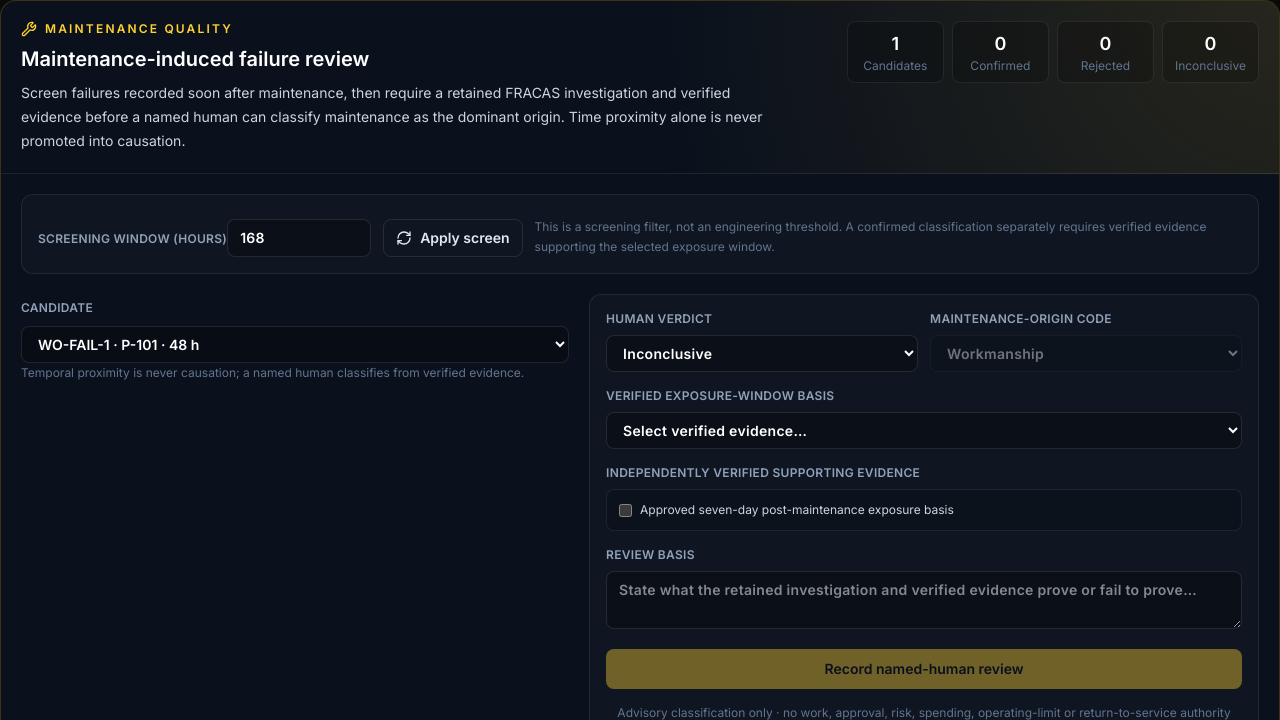
Test: MaintenanceInducedFailureReview › requires verified support before enabling a confirmed classification
Check: the heading "Maintenance-induced failure review" is shown, box x1=21 y1=47 x2=369 y2=71
Step 1. Select "Confirmed" in the dropdown labelled "Human verdict" → (762, 354), box x1=606 y1=335 x2=918 y2=372
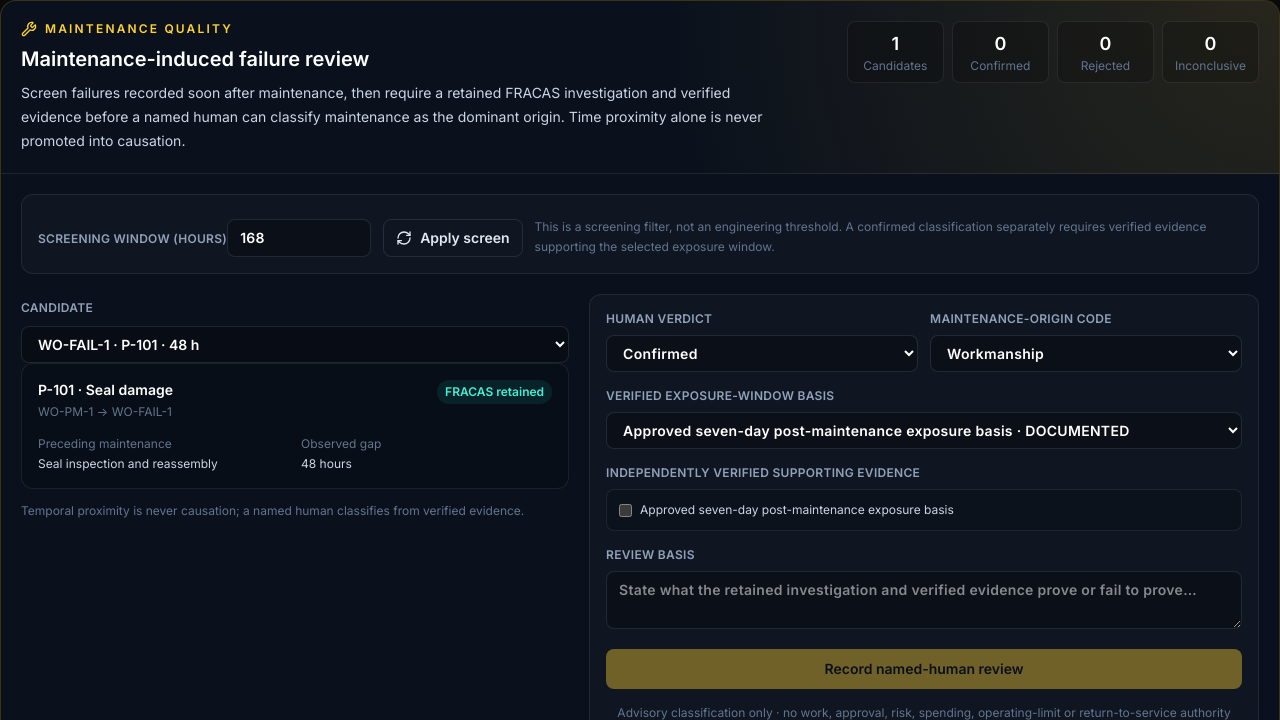
Step 2. Replace the text in the text box labelled "Review basis" with "Teardown evidence shows incorrect seal reassembly after the intervention." → (924, 600), box x1=606 y1=571 x2=1242 y2=629
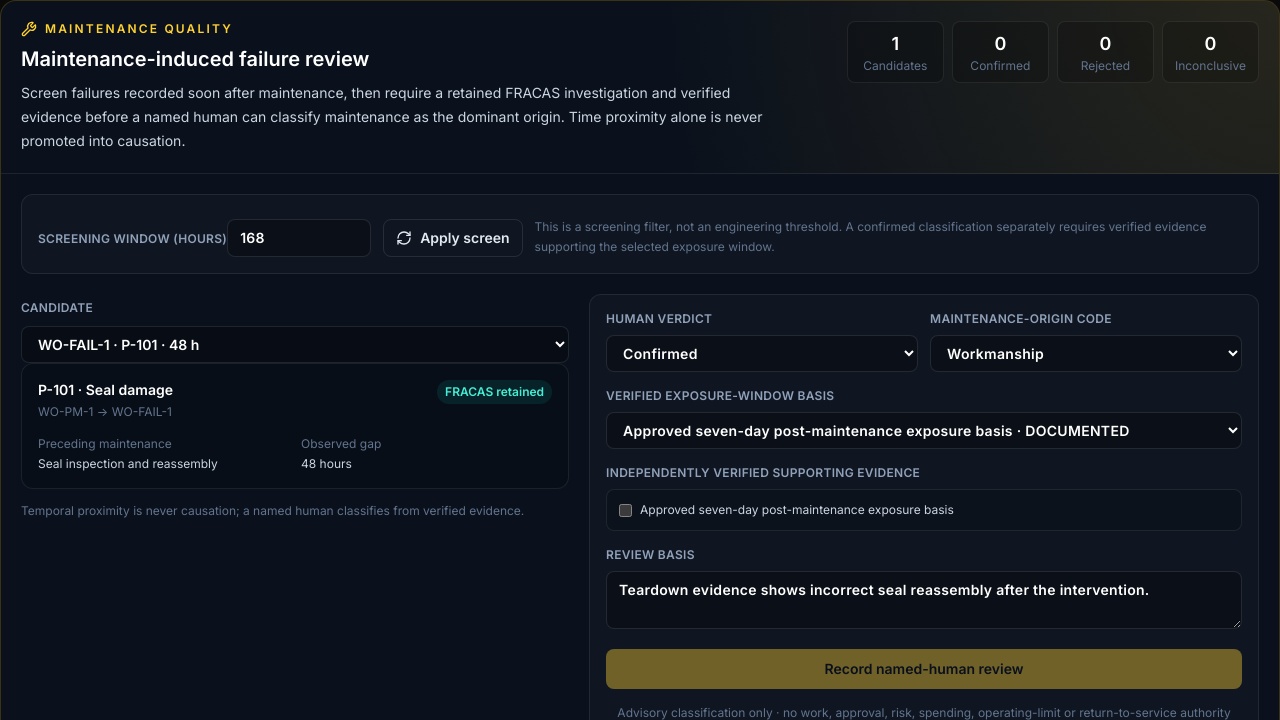
Check: the button "Record named-human review" is disabled, box x1=606 y1=649 x2=1242 y2=689
Step 3. Click the checkbox labelled "Approved seven-day post-maintenance exposure basis" → (626, 510), box x1=619 y1=504 x2=632 y2=517
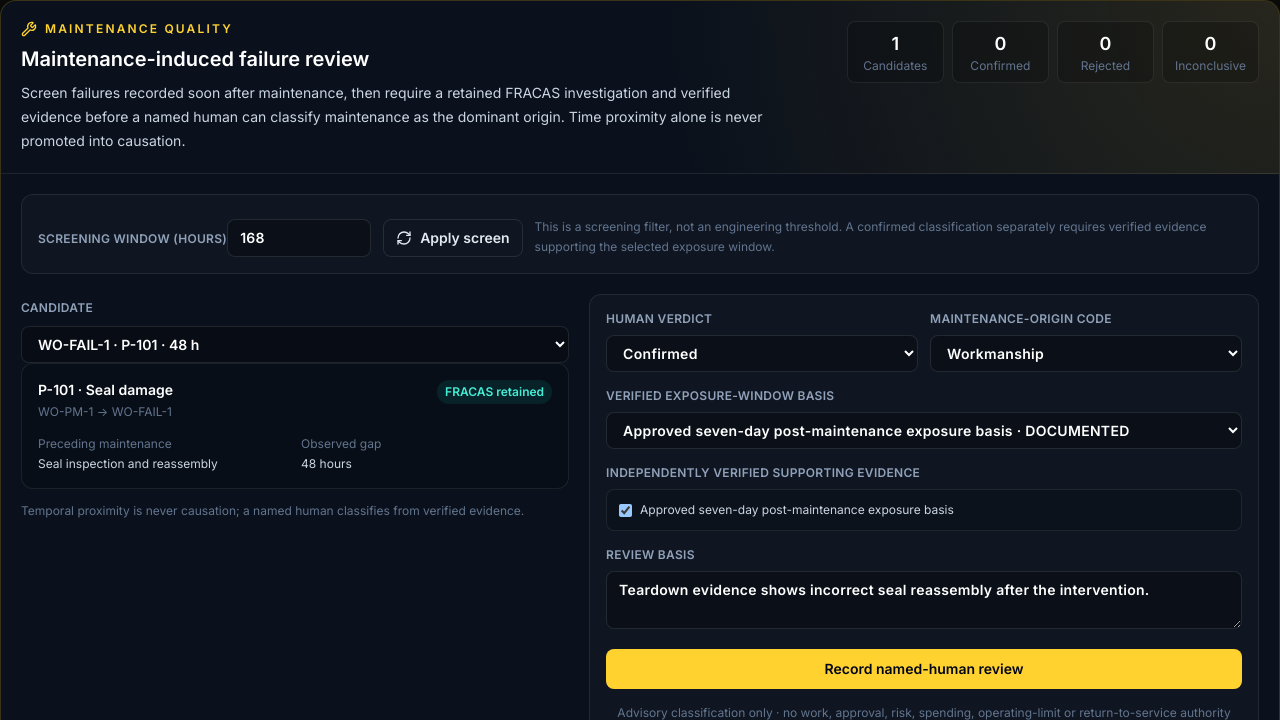
Check: the button "Record named-human review" is enabled, box x1=606 y1=649 x2=1242 y2=689
